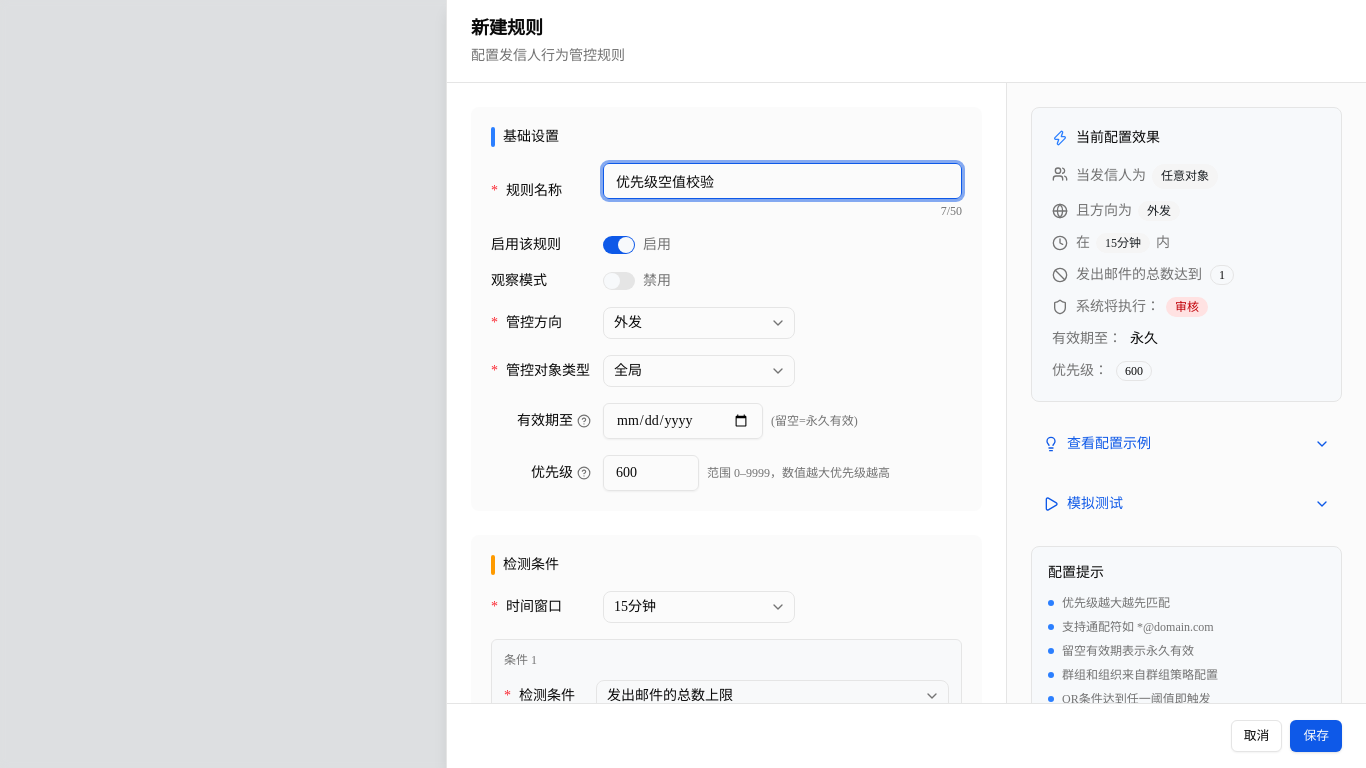
Scenario: BehaviorControlDrawer priority validation › shows a localized required message instead of the Zod NaN error when priority is cleared
The width and height of the screenshot is (1366, 768).
Clear the number field with test id "behavior-control-priority" at {"x": 651, "y": 473}, box x1=603 y1=455 x2=699 y2=491
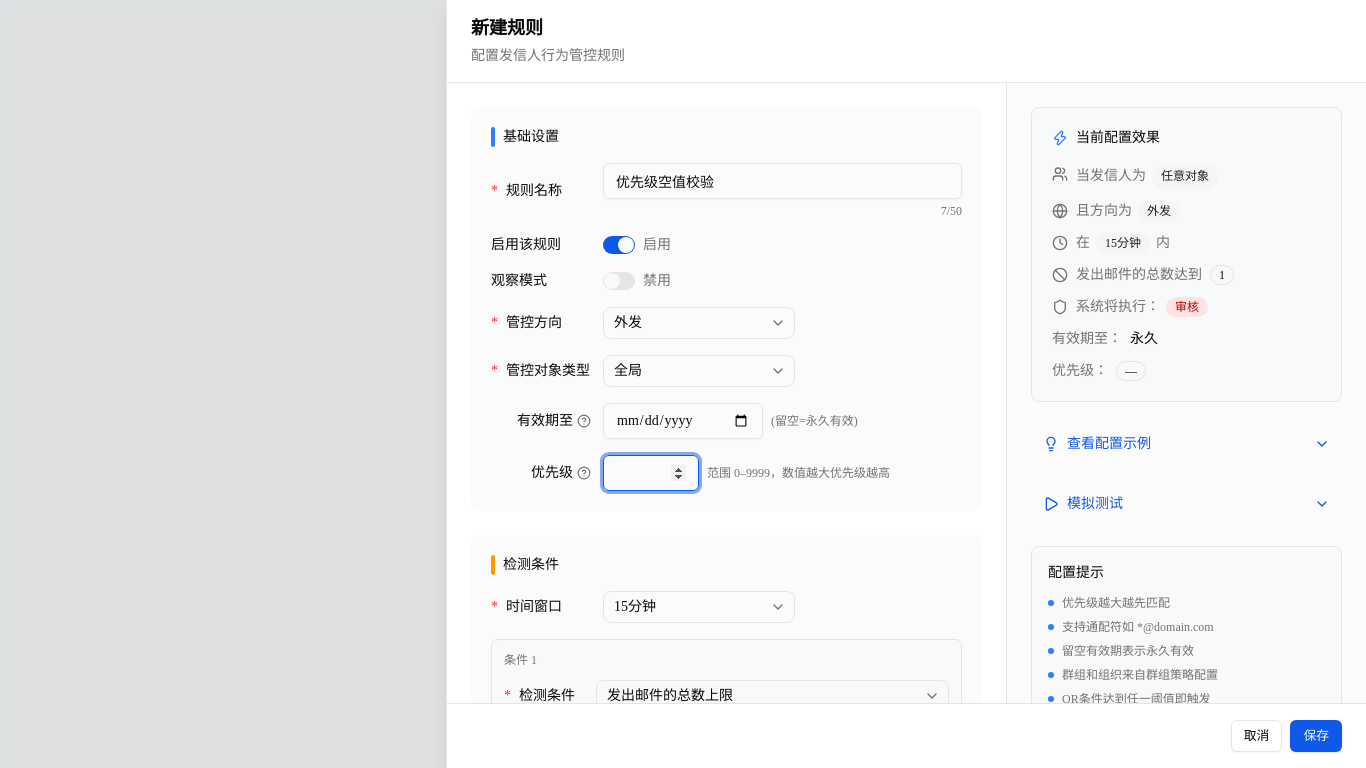
Click the button with test id "behavior-control-save" at {"x": 1316, "y": 736}, box x1=1290 y1=720 x2=1342 y2=752
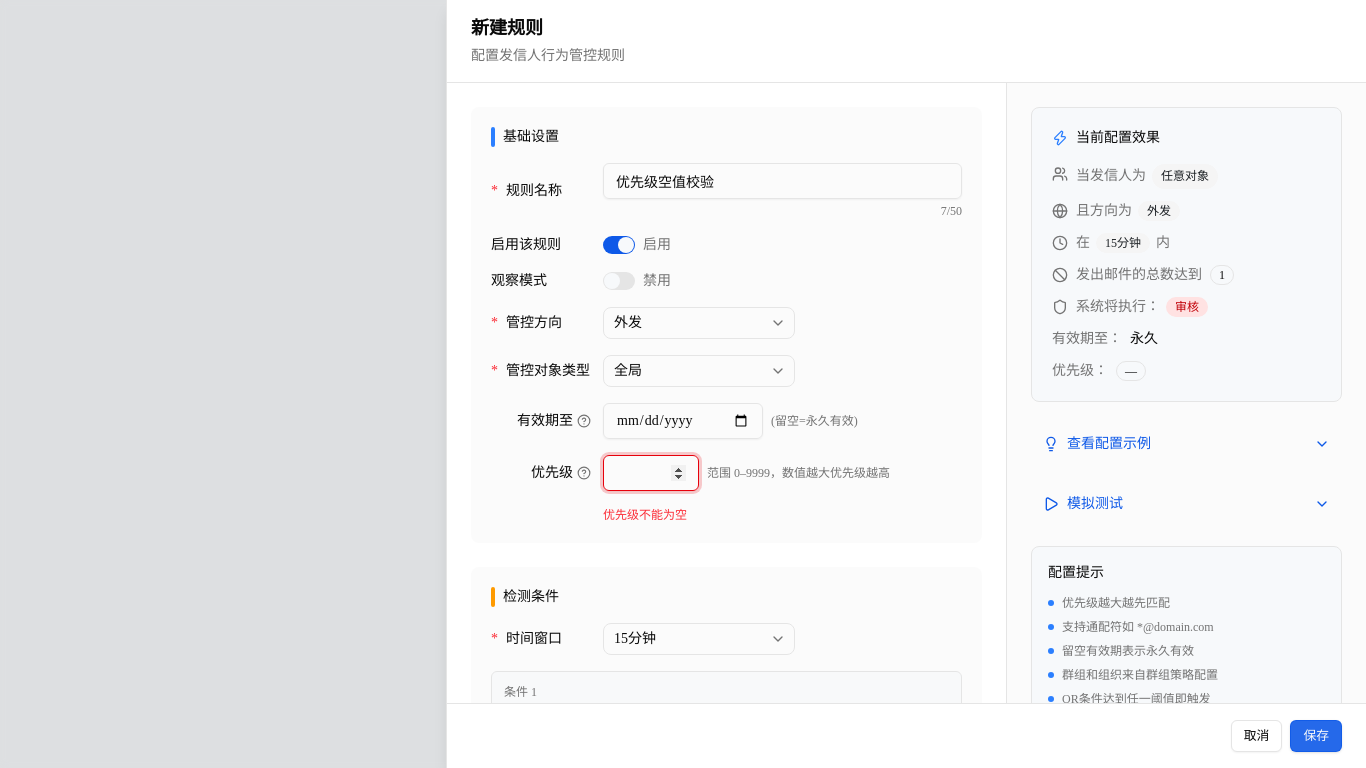
Result: the text with test id "behavior-control-priority-error" reads "优先级不能为空" at x1=603 y1=508 x2=687 y2=522
